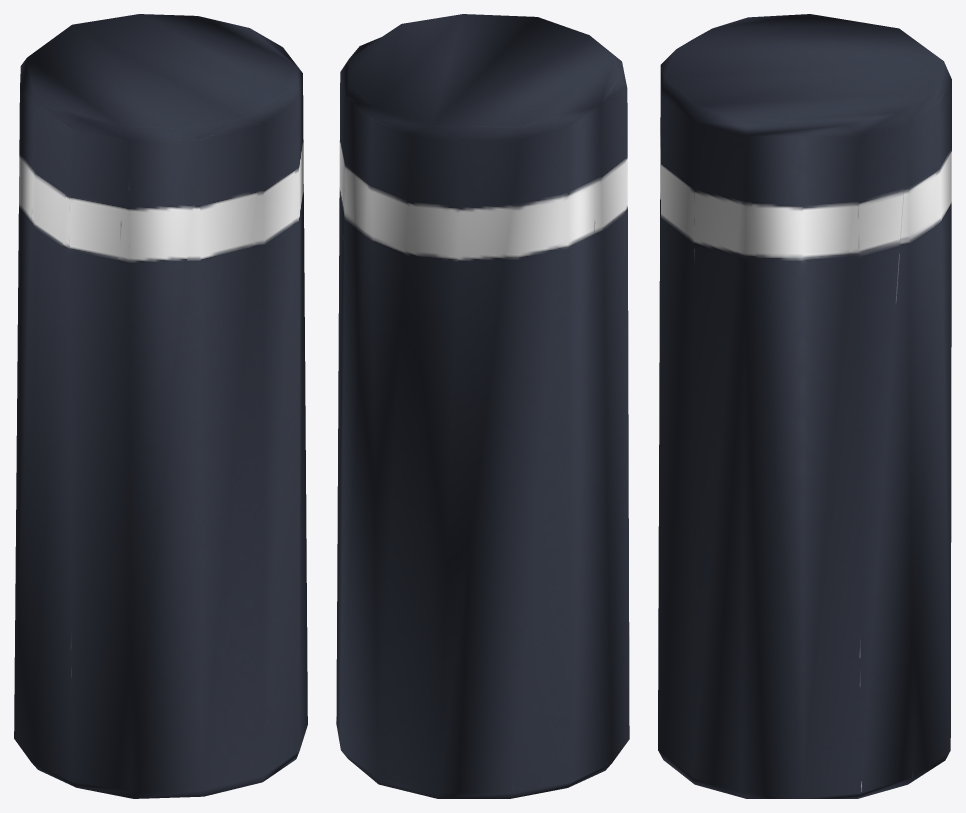
The model's file is bollard.fbx.
3 views of the same model, side by side, from view 1: azimuth 30°, elevation 25°; view 2: azimuth 150°, elevation 25°; view 3: azimuth 270°, elevation 25° (orthographic).
Parts seen in each view (by area): view 1: Mesh_0; view 2: Mesh_0; view 3: Mesh_0.
Boxes of the visible parts, box(x1,y1,x2,y2) form: Mesh_0: box(14, 14, 307, 798); Mesh_0: box(336, 14, 629, 798); Mesh_0: box(658, 14, 951, 798).
Bounding box in the file's own units: 38.33 × 95.12 × 37.6.
1 material, 1 textured.
